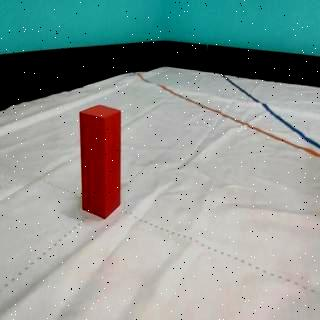redbox: (80, 103, 120, 220)
